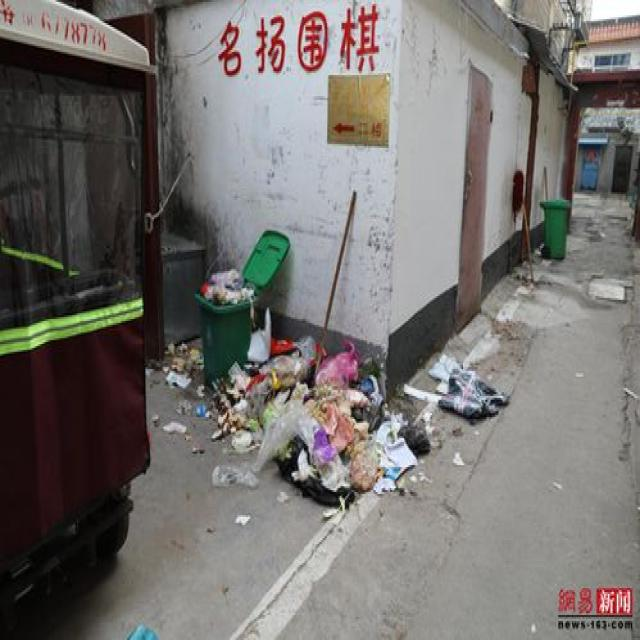garbage: (160, 306, 509, 522)
garbage_bin: (538, 196, 568, 256)
overflow: (194, 267, 258, 379)
